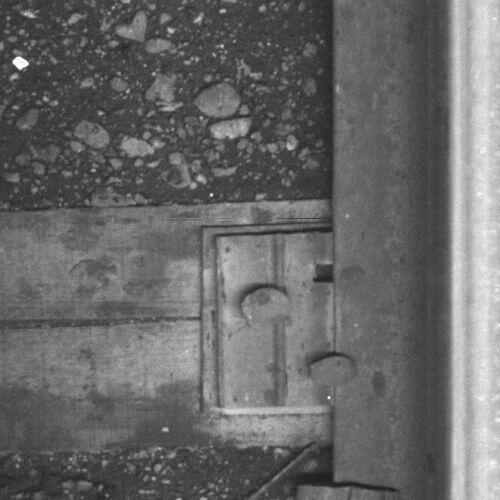crutch: (295, 480, 399, 500)
do: (216, 231, 359, 409)
hole_do: (303, 250, 344, 294)
rail: (448, 1, 500, 500)
tie_wood: (1, 205, 332, 453)
wood_crack: (1, 310, 203, 333)
